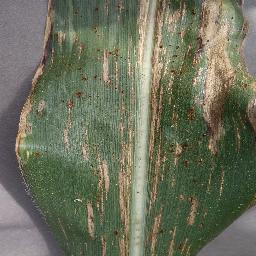Gray_Leaf_Spot: (129, 0, 256, 174), (14, 0, 75, 177), (75, 0, 128, 113), (82, 121, 110, 256), (115, 112, 132, 255), (145, 174, 169, 256), (176, 193, 203, 225), (169, 226, 193, 256), (204, 175, 226, 203)
